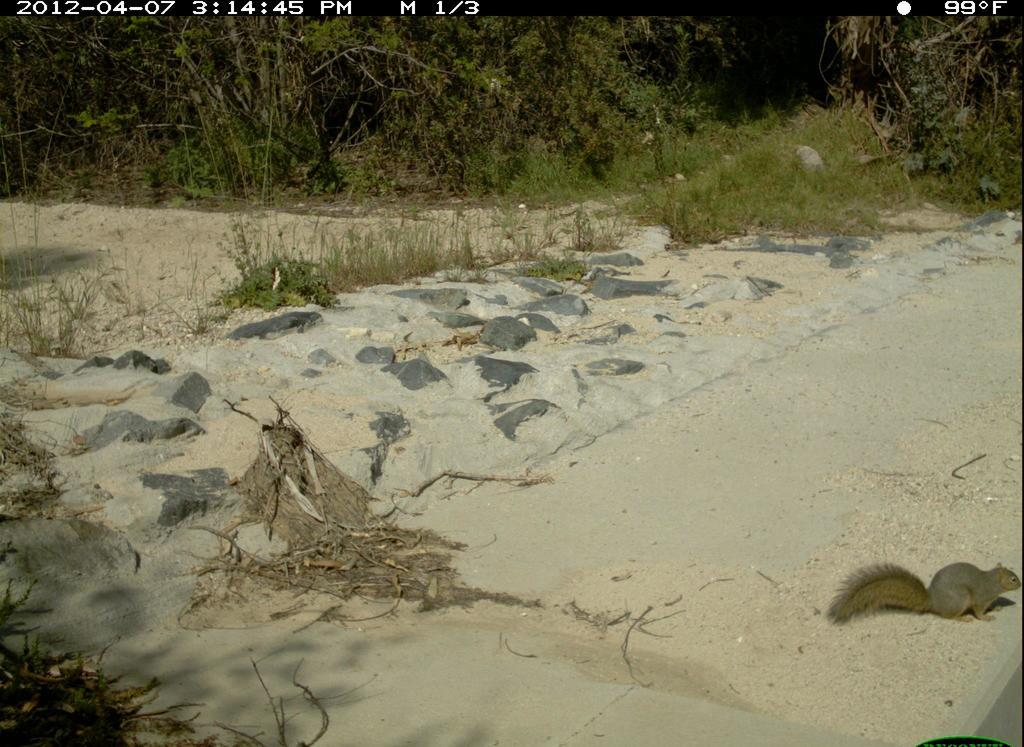squirrel: (818, 543, 1023, 644)
